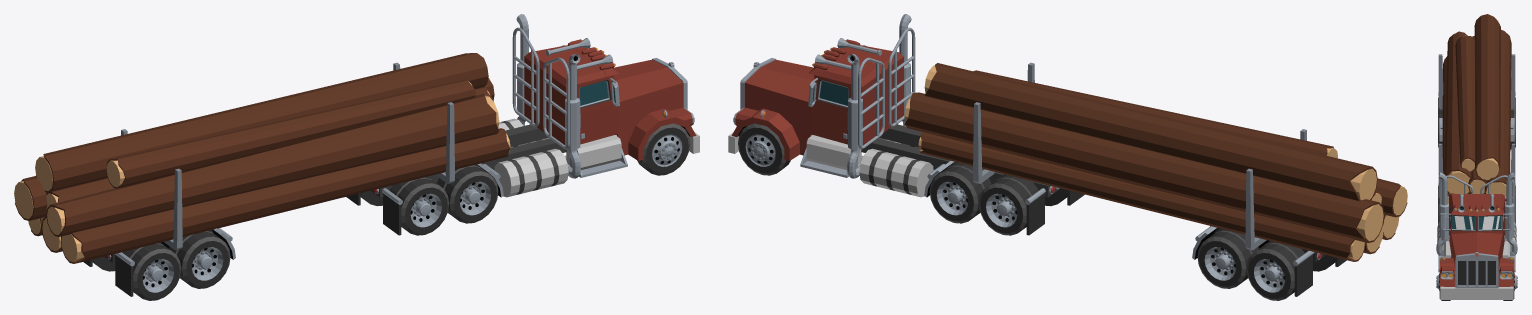
3 renders of one model, left to right at view 1: azimuth 30°, elevation 25°; view 2: azimuth 150°, elevation 25°; view 3: azimuth 270°, elevation 25°, orthographic. The views are drawn at different scales.
Visible parts, largest first — view 1: Body_0; view 2: Body_0; view 3: Body_0.
Part boxes in pixels (x1,y1,x2,y2): Body_0: (14, 14, 699, 300); Body_0: (728, 14, 1407, 300); Body_0: (1436, 14, 1517, 300).
Size of the model in its own units: 23.61 by 5.12 by 3.9.
Materials: 1 (1 with a texture image).
